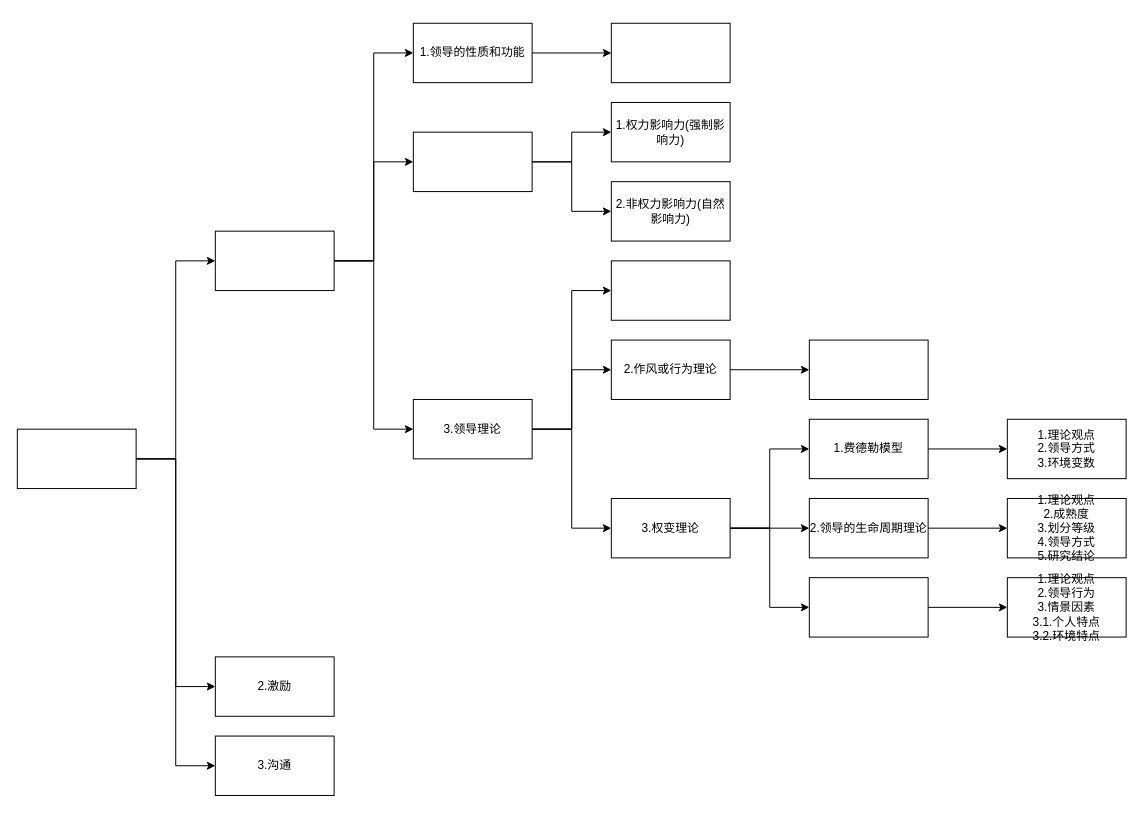
The diagram is 1143 pixels wide and 813 high, and some of its shapes have lost their labels. Each missing label, with the centre of its shape:
1.四分图理论 2.管理方格理论: the point at 868,369
1.定义 2.性质 3.功能 3.1.组织功能 3.2.激励功能: the point at 670,52
1.特性理论: the point at 670,290
1.领导: the point at 274,260
2.领导的影响力: the point at 472,161
3.目标-途径理论: the point at 868,607
领导: the point at 76,458
